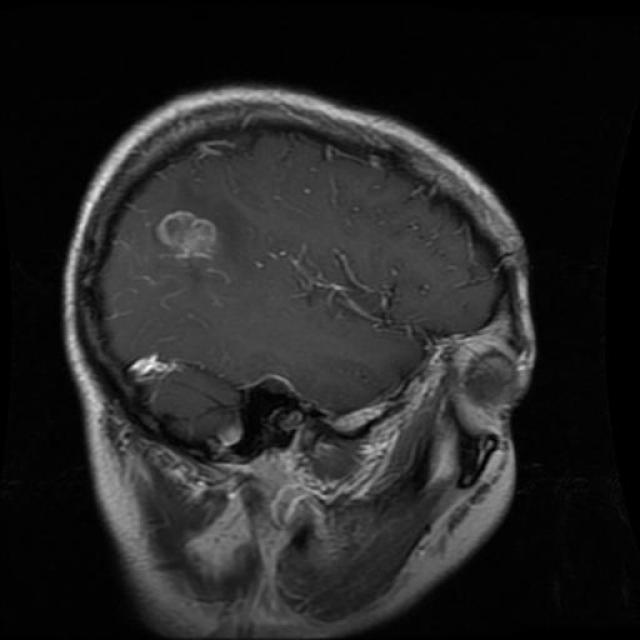glioma: (154, 206, 222, 266)
